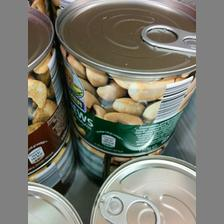Nuss: (54, 0, 194, 154)
